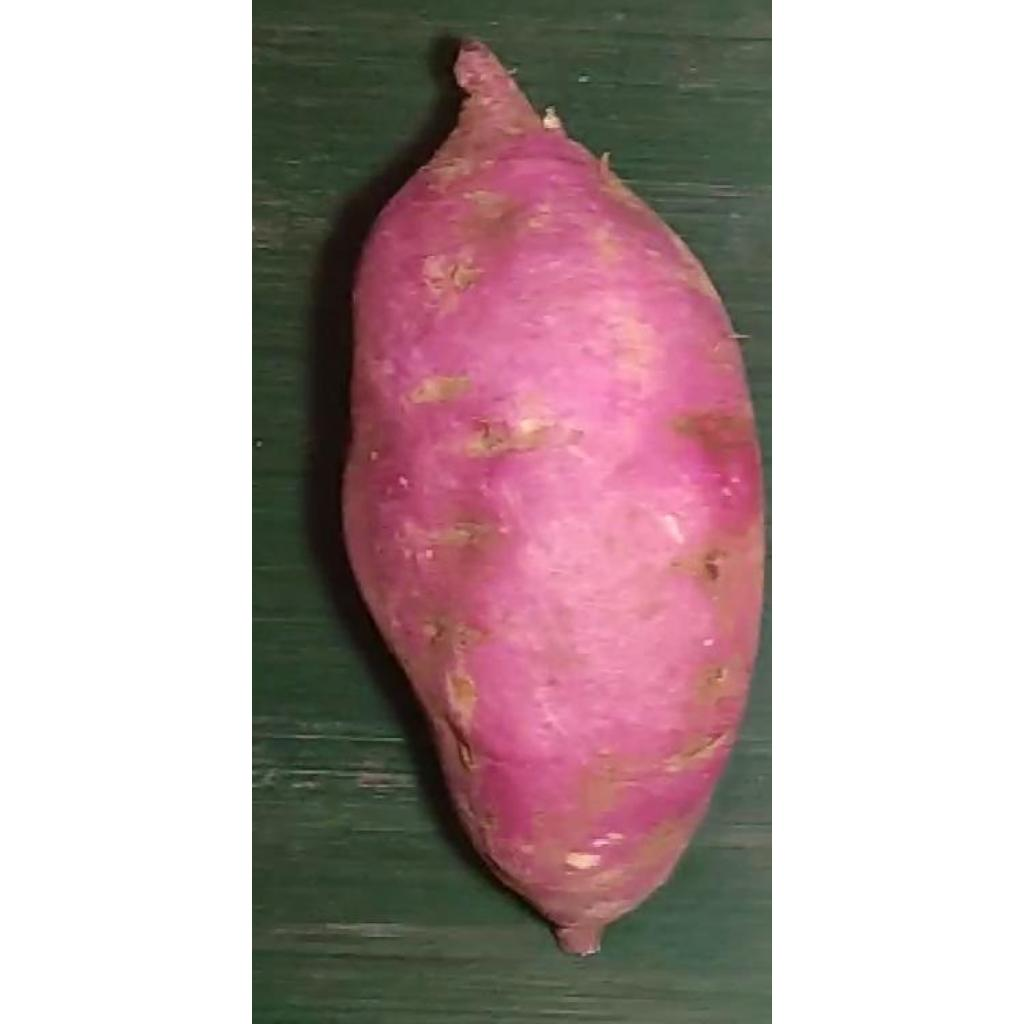Sweet Potato: (342, 37, 764, 960)
